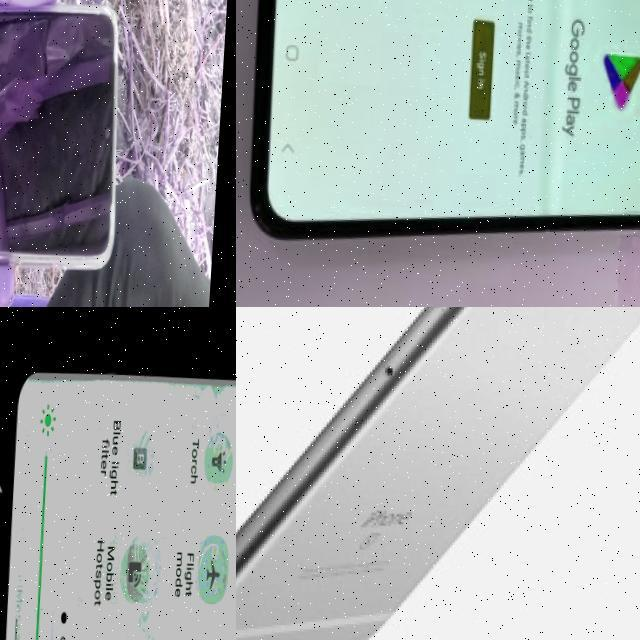screen crack: (86, 7, 122, 68)
